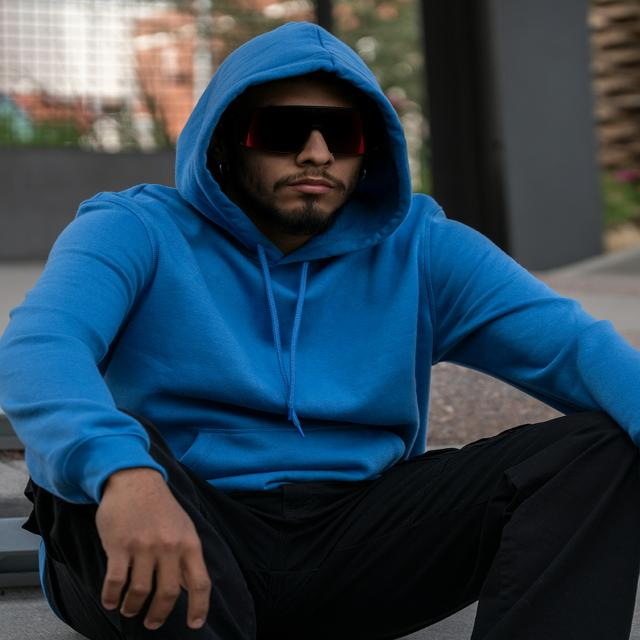4_capucha: (174, 20, 414, 266)
